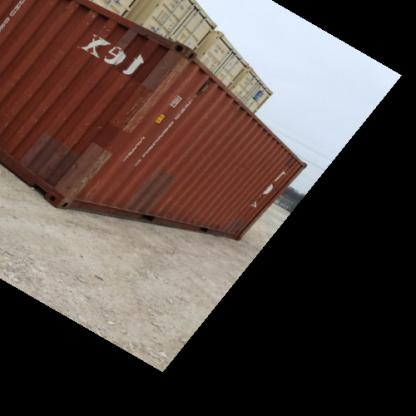Damage: (151, 44, 196, 94), (118, 82, 158, 134), (66, 148, 105, 198), (35, 99, 53, 120), (98, 14, 115, 33)
